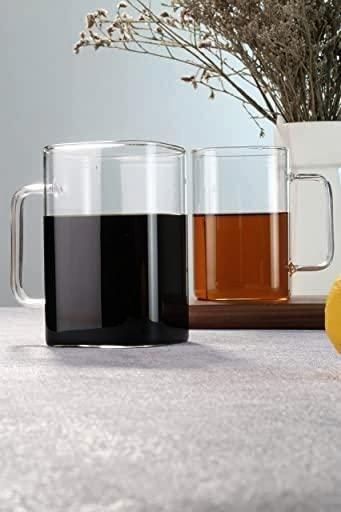glass-mug: (7, 134, 198, 355), (187, 140, 341, 310)
